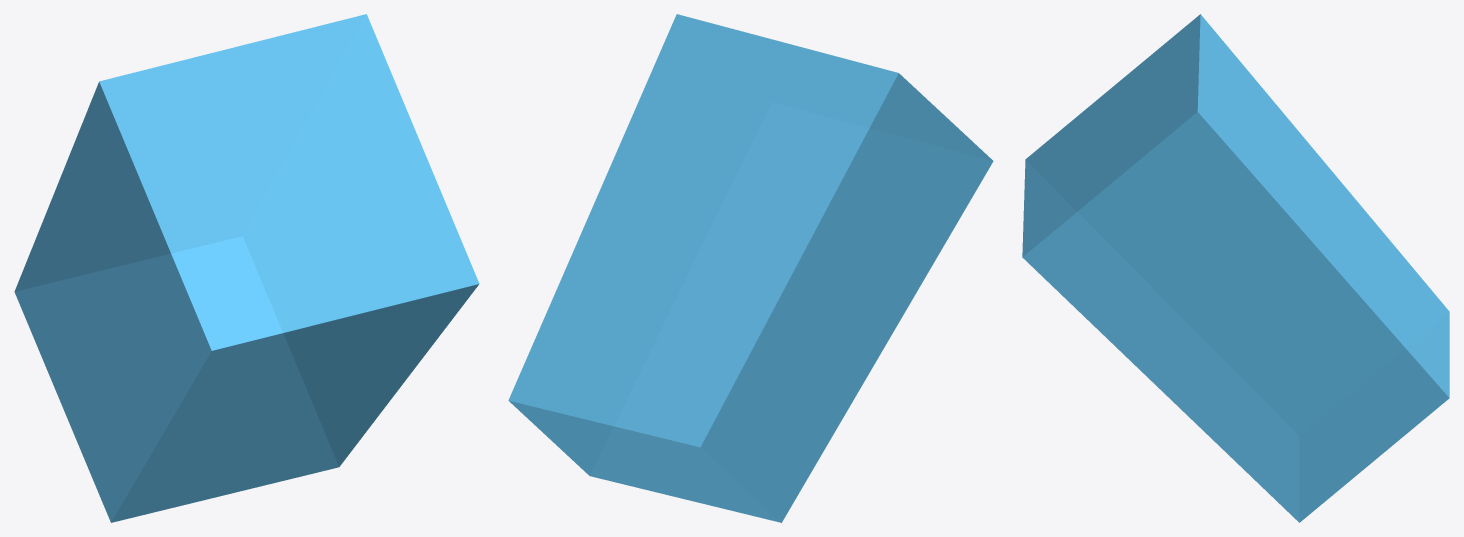
Rendered from Event_420094457_HBrechit_4.fbx.
The picture shows the model from 3 angles, left to right: view 1: azimuth 30°, elevation 25°; view 2: azimuth 150°, elevation 25°; view 3: azimuth 270°, elevation 25°; orthographic projection. The views are drawn at different scales.
Visible parts, largest first — view 1: Model; view 2: Model; view 3: Model.
Boxes of the visible parts, <box> form: Model: <box>14,14,479,522</box>; Model: <box>508,14,993,522</box>; Model: <box>1022,14,1449,522</box>.
Size of the model in its own units: 0.5378 by 0.8635 by 0.8427.
